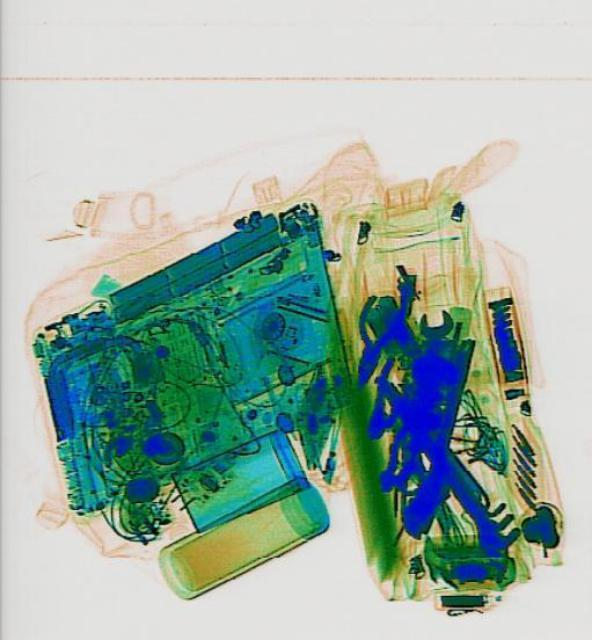Pliers: (337, 286, 408, 388)
Wrench: (408, 307, 451, 387)
